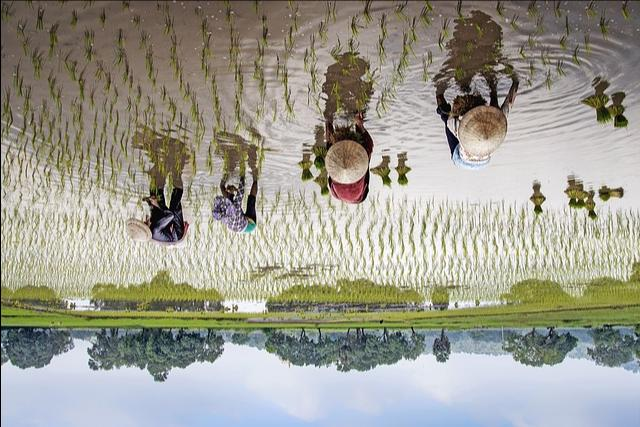Non_Gorille: (56, 39, 616, 318)
